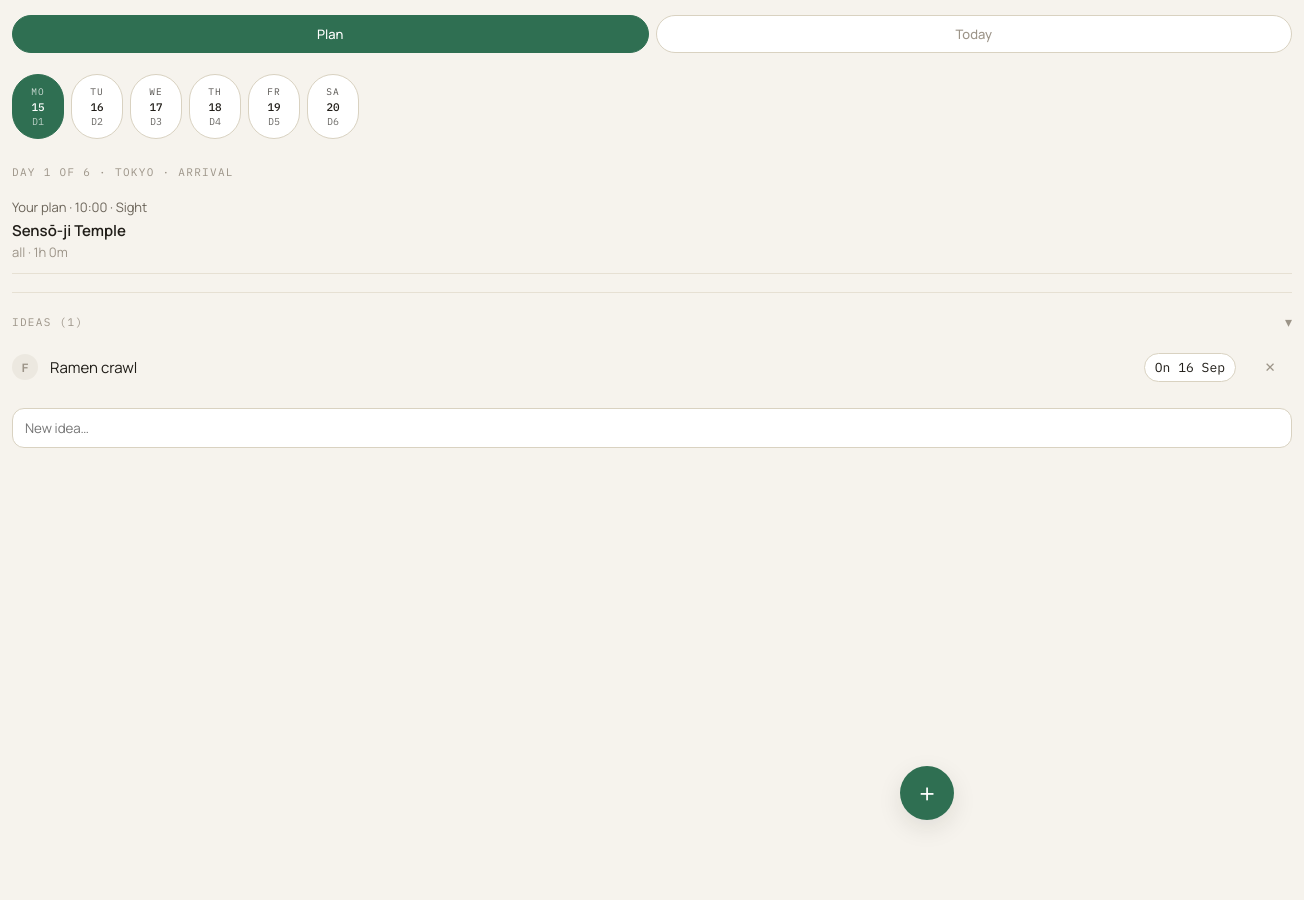
Scenario: ItineraryTab — Idea assignment obeys the same Stop validation as manual Stop creation › 7. an Idea assigned next to (not overlapping) another activity succeeds
The image size is (1304, 900).
What coordinates should you click on to do the following:
click the button "On 16 Sep"
I would click on:
 (1190, 367)
Its box is [1144,352,1236,382].
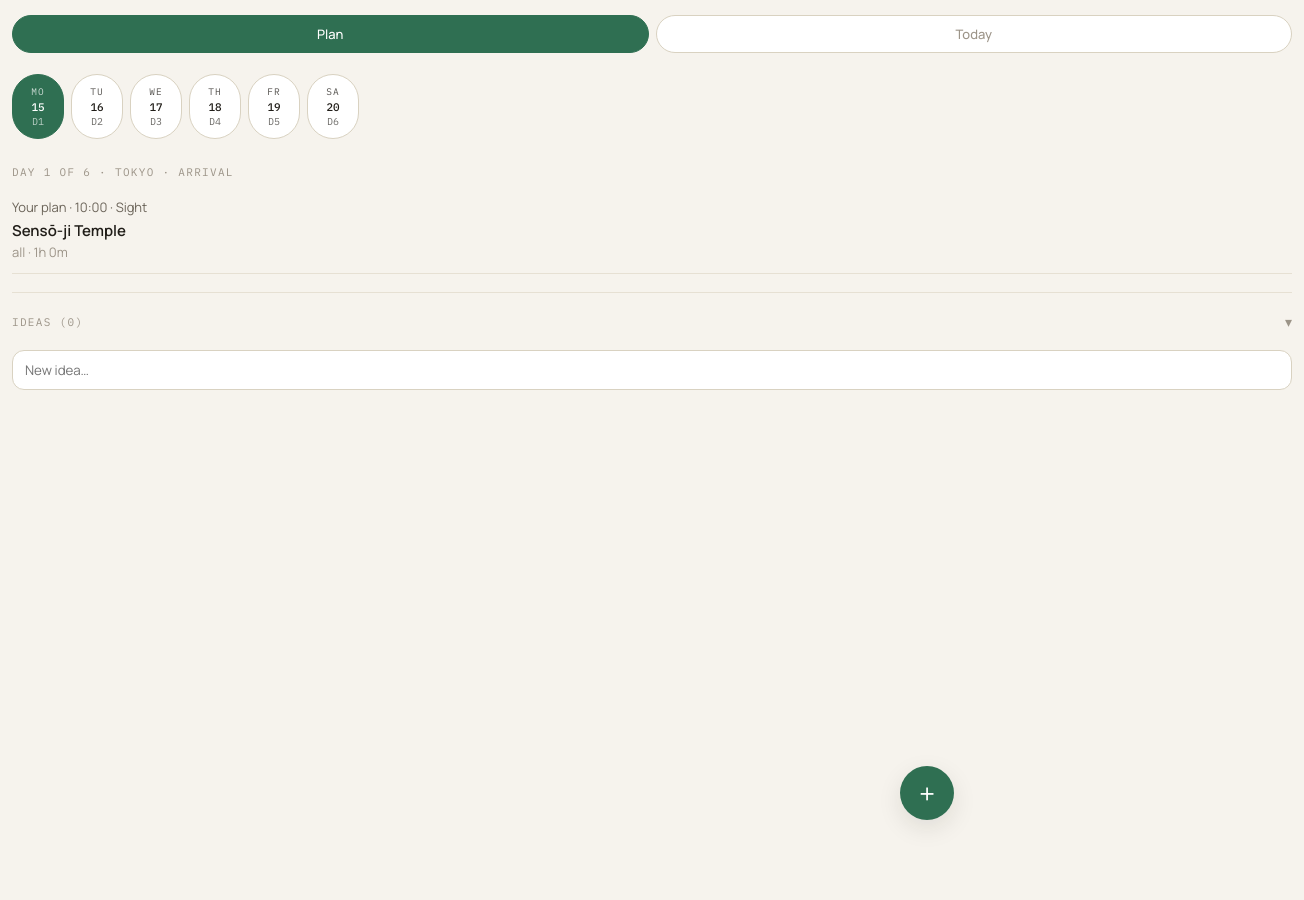
Now the text "Ramen crawl" is gone
